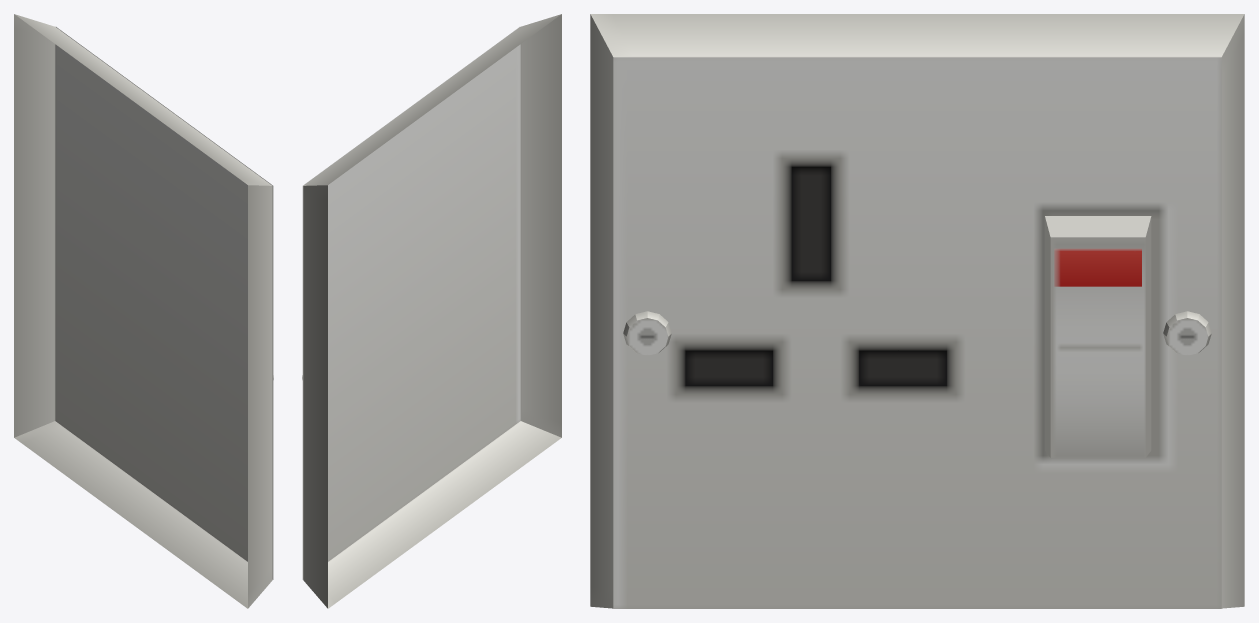
Rendered from uksocket.obj.
3 renders of one model, left to right at view 1: azimuth 30°, elevation 25°; view 2: azimuth 150°, elevation 25°; view 3: azimuth 270°, elevation 25°, orthographic. The views are drawn at different scales.
Parts seen in each view (by area): view 1: SocketBase, SocketTypeG; view 2: SocketBase, SocketTypeG; view 3: SocketTypeG, SocketBase, SocketSwitch, SocketOnMark.
Boxes of the visible parts, <box> form: SocketBase: <box>14,14,273,608</box>; SocketTypeG: <box>56,27,273,579</box>; SocketBase: <box>302,14,561,608</box>; SocketTypeG: <box>302,27,519,579</box>; SocketTypeG: <box>613,57,1221,608</box>; SocketBase: <box>590,14,1244,608</box>; SocketSwitch: <box>1045,216,1151,457</box>; SocketOnMark: <box>1054,248,1141,286</box>.
Size of the model in its own units: 0.0475 by 0.344 by 0.344.
1 material, 1 textured.
